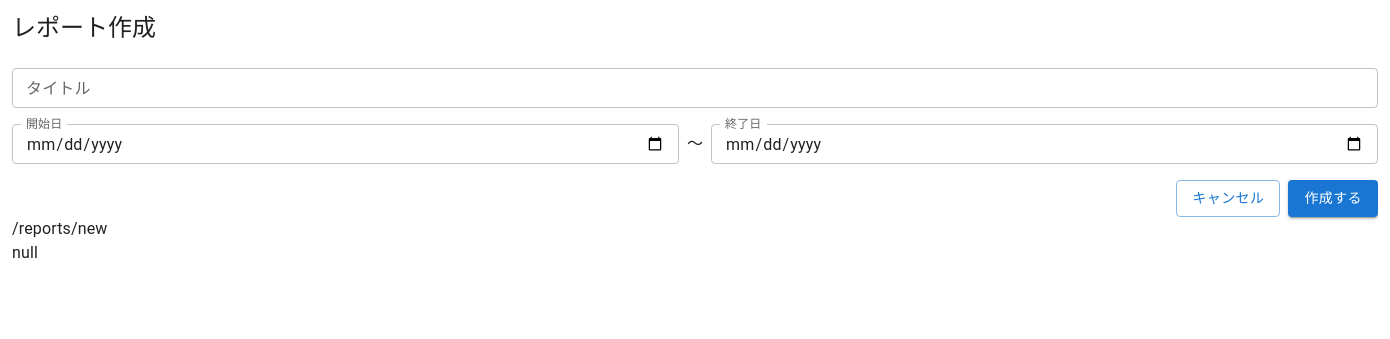
ReportCreatePage › RPT-FE-025: useCreateReport がエラーを返すと FormAlert にエラーメッセージが表示される
The image size is (1390, 339).
送信操作を行ってエラーを発生させる。
Type "出張費 3月" into the field labelled "タイトル" at (695, 88), box left=12, top=68, right=1378, bottom=108
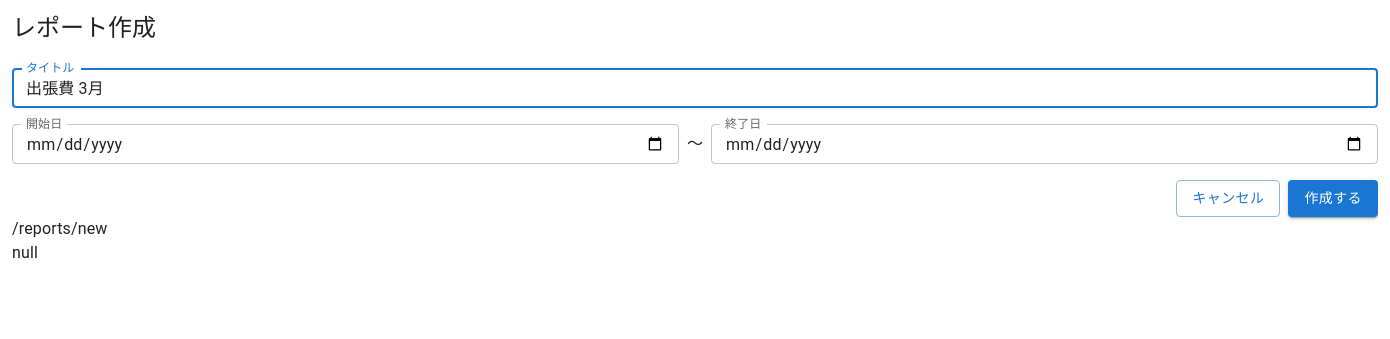
Type "2026-03-01" into the date field named "periodStart" at (345, 144), box left=12, top=124, right=679, bottom=164
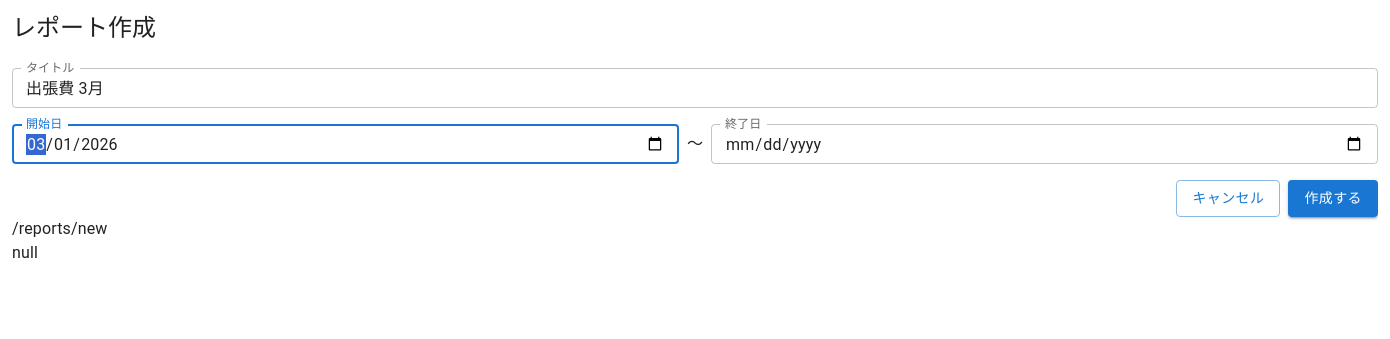
Type "2026-03-31" into the date field named "periodEnd" at (1045, 144), box left=711, top=124, right=1378, bottom=164
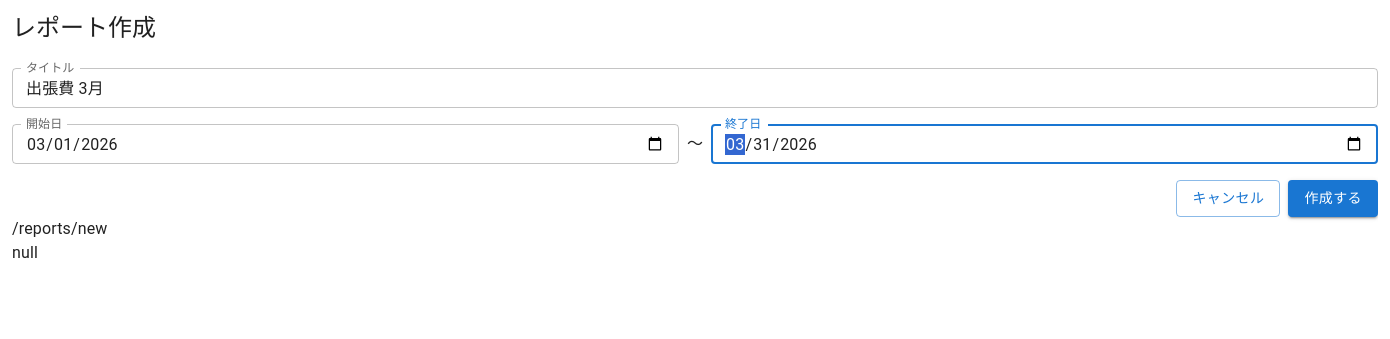
Click the button "作成する" at (1333, 198), box left=1288, top=180, right=1378, bottom=216
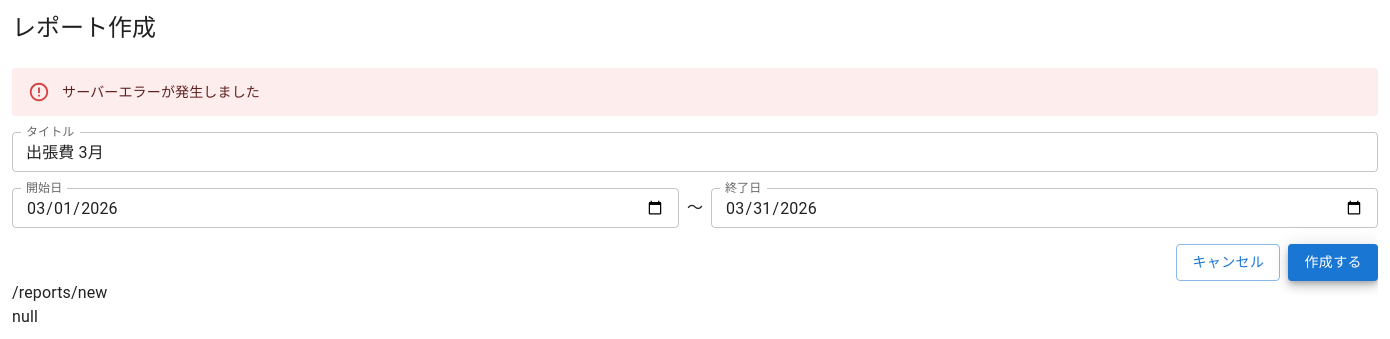
Expected: the message "サーバーエラーが発生しました" is shown, left=12, top=68, right=1378, bottom=116
Expected: the message with test id "form-alert" reads "サーバーエラーが発生しました", left=62, top=84, right=260, bottom=100
